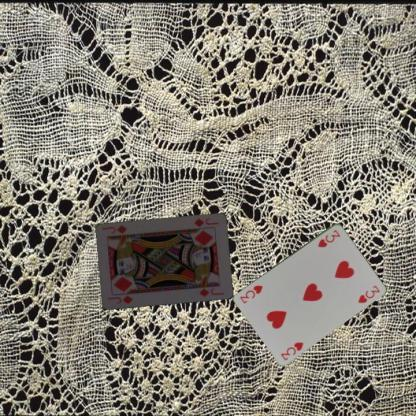3h: (277, 339, 304, 362), (316, 228, 342, 248)
Jd: (105, 293, 134, 305), (191, 216, 220, 228)
